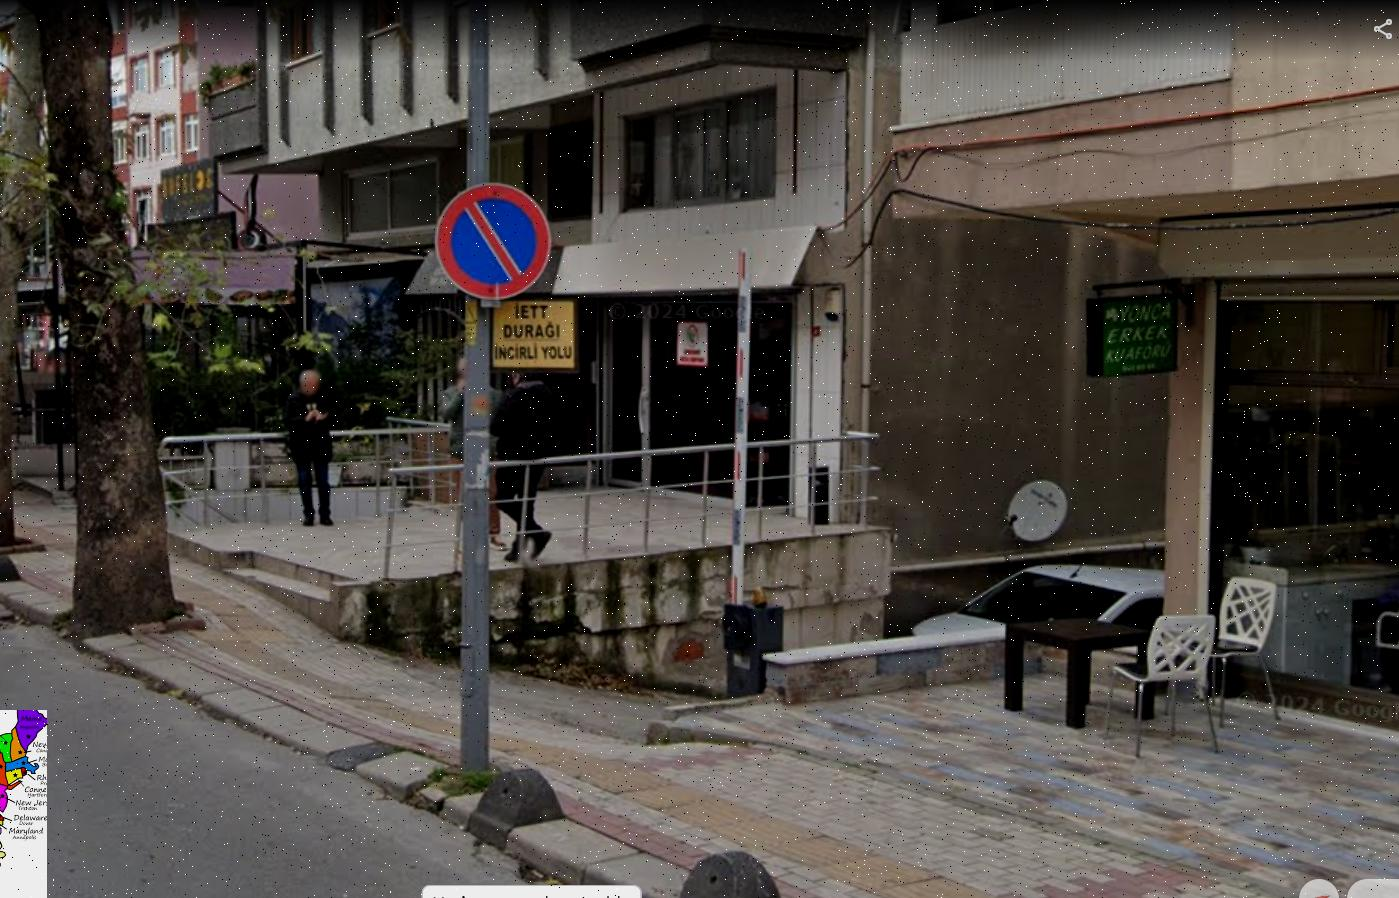nopark: (436, 188, 542, 298)
